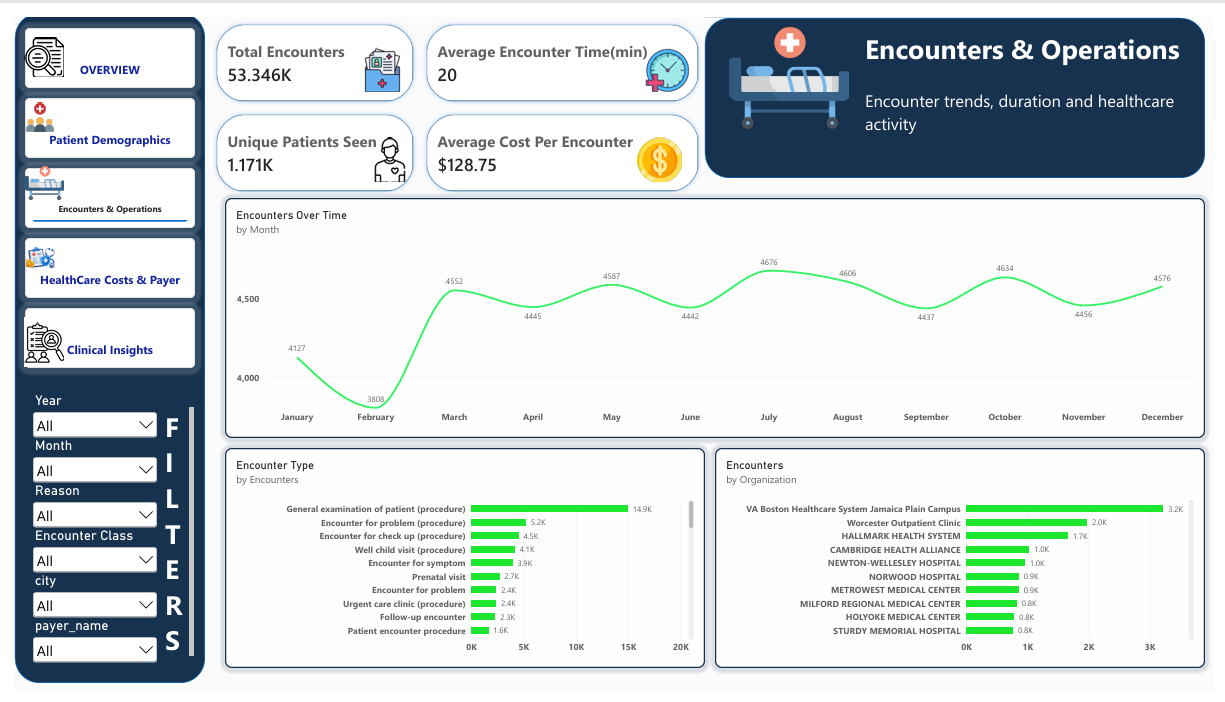

This screenshot's page, from the dashboard's own definition file:
{"tool":"powerbi","page":{"name":"Encounters & Operations","canvas":[1920,1080],"ordinal":2},"visuals":[{"type":"shape","box":[1104,0,800,256],"z":0},{"type":"textbox","box":[1360,0,528,224],"z":1000},{"type":"image","box":[1088,0,304,192],"z":2000},{"type":"shape","box":[0,-8,304,1072],"z":3000},{"type":"pageNavigator","title":"Ctrl+Click to follow","box":[16,240,272,96],"z":4000},{"type":"pageNavigator","title":"Ctrl+Click to follow","box":[16,128,272,96],"z":5000},{"type":"pageNavigator","title":"Ctrl+Click to follow","box":[16,16,272,96],"z":6000},{"type":"pageNavigator","title":"Ctrl+Click to follow","box":[16,352,272,96],"z":7000},{"type":"pageNavigator","title":"Ctrl+Click to follow","box":[16,464,272,96],"z":8000},{"type":"cardVisual","fields":{"Data":["Count(encounters.encounter_id)"]},"box":[312,0,336,144],"z":9000},{"type":"cardVisual","fields":{"Data":["Count(encounters.patient_id)"]},"box":[312,144,336,144],"z":10000},{"type":"cardVisual","fields":{"Data":["encounters.average_encounter_time(minutes)"]},"box":[648,0,456,144],"z":11000},{"type":"cardVisual","fields":{"Data":["encounters.average_cost_per_visit"]},"box":[648,144,456,144],"z":12000},{"type":"image","box":[528,48,120,72],"z":13000},{"type":"image","box":[960,48,168,72],"z":14000},{"type":"image","box":[528,192,144,72],"z":15000},{"type":"image","box":[984,192,96,72],"z":16000},{"type":"lineChart","fields":{"Category":["encounters.month name"],"Y":["CountNonNull(encounters.encounter_id)"]},"box":[336,288,1568,384],"z":17000},{"type":"clusteredBarChart","fields":{"Category":["organizations.organization_name"],"Y":["CountNonNull(encounters.encounter_id)"]},"box":[1120,688,784,352],"z":18000},{"type":"clusteredBarChart","fields":{"Category":["encounters.encounter_description"],"Y":["CountNonNull(encounters.encounter_id)"]},"box":[336,688,768,352],"z":19000},{"type":"slicer","fields":{"Values":["encounters.year"]},"box":[24,600,208,80],"z":20000},{"type":"slicer","fields":{"Values":["encounters.month name"]},"box":[24,672,208,96],"z":21000},{"type":"slicer","fields":{"Values":["encounters.reason_description"]},"box":[24,744,208,80],"z":23000},{"type":"slicer","fields":{"Values":["encounters.encounter_class"]},"box":[24,816,208,80],"z":24000},{"type":"slicer","fields":{"Values":["payers.city"]},"box":[24,888,208,80],"z":25000},{"type":"slicer","fields":{"Values":["payers.payer_name"]},"box":[24,960,208,80],"z":26000},{"type":"textbox","box":[240,624,48,408],"z":27000},{"type":"image","box":[0,32,96,64],"z":30000},{"type":"image","box":[16,128,48,64],"z":31000},{"type":"image","box":[16,224,64,80],"z":32000},{"type":"image","box":[0,336,80,96],"z":32001},{"type":"image","box":[16,480,64,80],"z":32002}]}

Visuals, with their boxes in screenshot pixels (x1, y1, x2, y2), scaled from the page's 1920x1080 canvas onto the 1225x702 screenshot:
shape: bbox=(704, 0, 1215, 166)
textbox: bbox=(868, 0, 1205, 146)
image: bbox=(694, 0, 888, 125)
shape: bbox=(0, 0, 194, 692)
"Ctrl+Click to follow" pageNavigator: bbox=(10, 156, 184, 218)
"Ctrl+Click to follow" pageNavigator: bbox=(10, 83, 184, 146)
"Ctrl+Click to follow" pageNavigator: bbox=(10, 10, 184, 73)
"Ctrl+Click to follow" pageNavigator: bbox=(10, 229, 184, 291)
"Ctrl+Click to follow" pageNavigator: bbox=(10, 302, 184, 364)
cardVisual - Count(encounters.encounter_id): bbox=(199, 0, 413, 94)
cardVisual - Count(encounters.patient_id): bbox=(199, 94, 413, 187)
cardVisual - encounters.average_encounter_time(minutes): bbox=(413, 0, 704, 94)
cardVisual - encounters.average_cost_per_visit: bbox=(413, 94, 704, 187)
image: bbox=(337, 31, 413, 78)
image: bbox=(612, 31, 720, 78)
image: bbox=(337, 125, 429, 172)
image: bbox=(628, 125, 689, 172)
lineChart - encounters.month name x CountNonNull(encounters.encounter_id): bbox=(214, 187, 1215, 437)
clusteredBarChart - organizations.organization_name x CountNonNull(encounters.encounter_id): bbox=(715, 447, 1215, 676)
clusteredBarChart - encounters.encounter_description x CountNonNull(encounters.encounter_id): bbox=(214, 447, 704, 676)
slicer - encounters.year: bbox=(15, 390, 148, 442)
slicer - encounters.month name: bbox=(15, 437, 148, 499)
slicer - encounters.reason_description: bbox=(15, 484, 148, 536)
slicer - encounters.encounter_class: bbox=(15, 530, 148, 582)
slicer - payers.city: bbox=(15, 577, 148, 629)
slicer - payers.payer_name: bbox=(15, 624, 148, 676)
textbox: bbox=(153, 406, 184, 671)
image: bbox=(0, 21, 61, 62)
image: bbox=(10, 83, 41, 125)
image: bbox=(10, 146, 51, 198)
image: bbox=(0, 218, 51, 281)
image: bbox=(10, 312, 51, 364)
